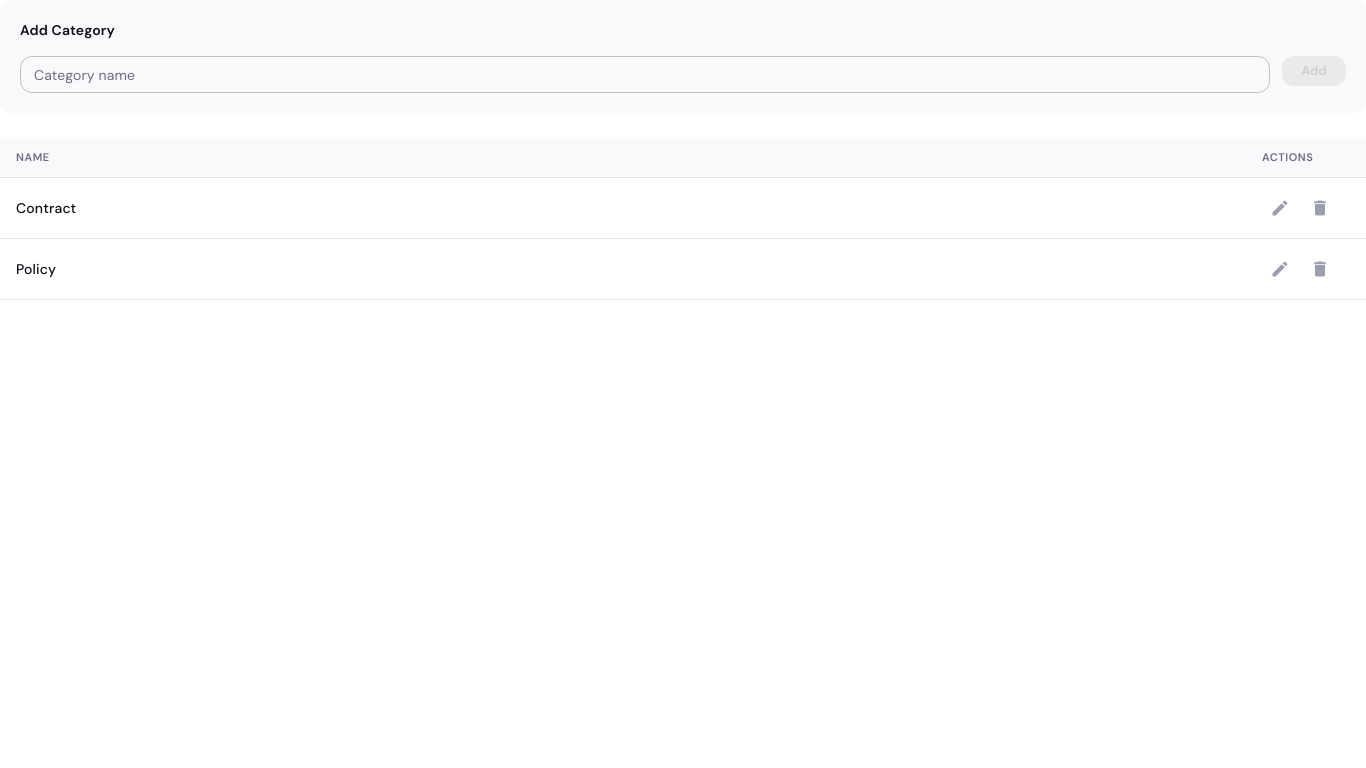
Scenario: CategoryManager › closes dialog on cancel
The image size is (1366, 768).
Click the button named "Delete Contract" at coordinates (1320, 208), box [1302,190,1338,226]
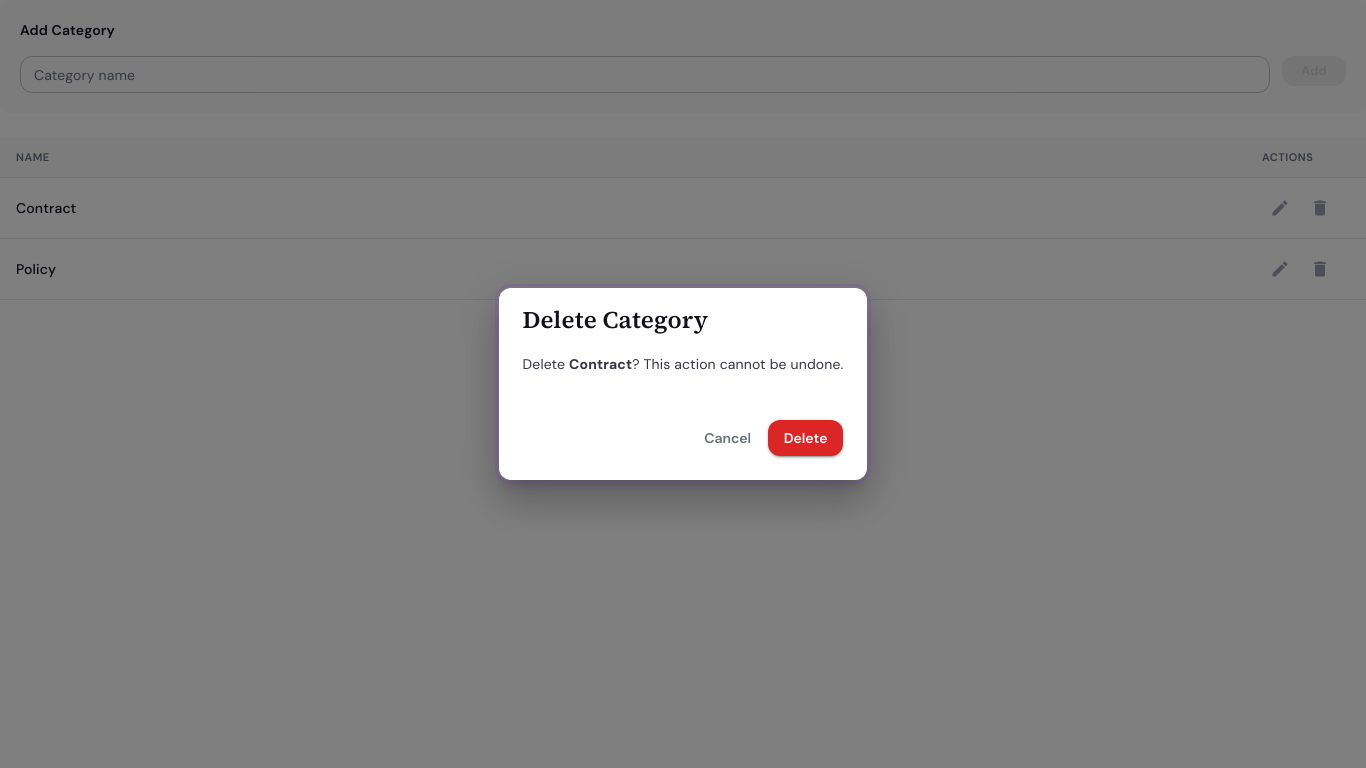
Result: the dialog is shown at [498,288,868,480]
Click the button "Cancel" at coordinates (728, 438), box [696,420,760,456]
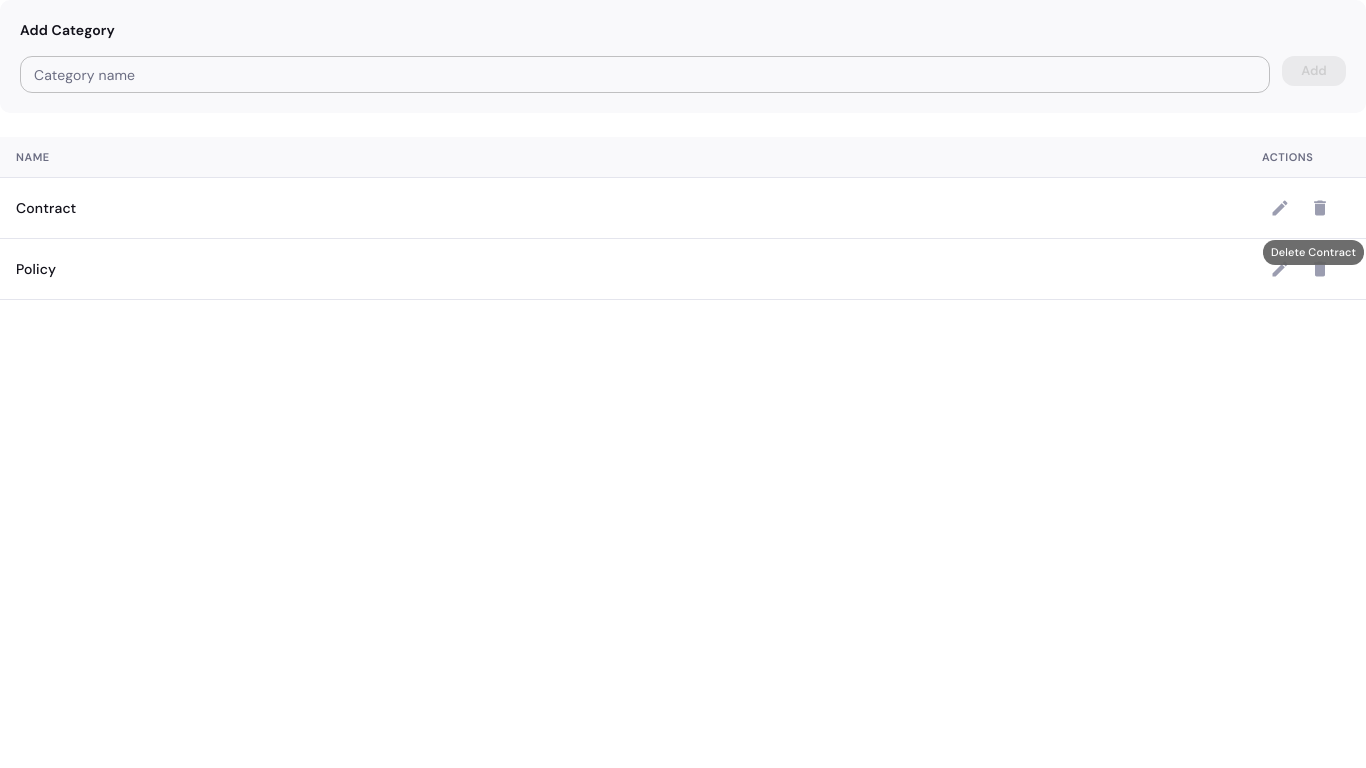
Result: the dialog is gone
